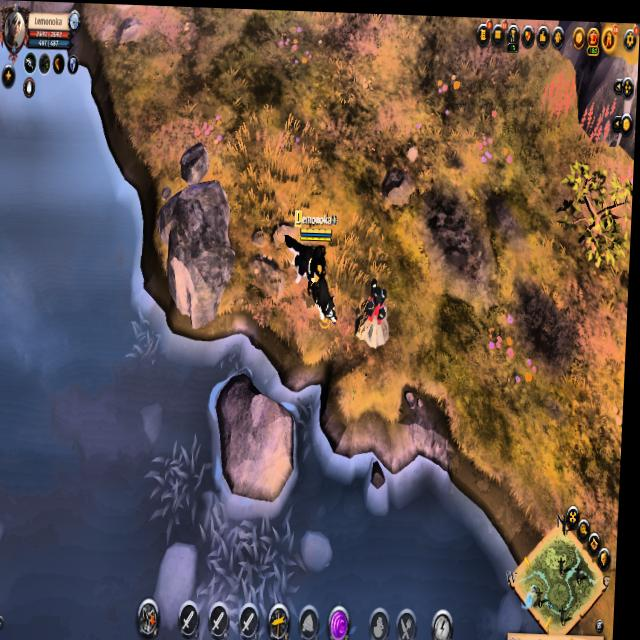ore tier 5: (356, 274, 397, 349)
